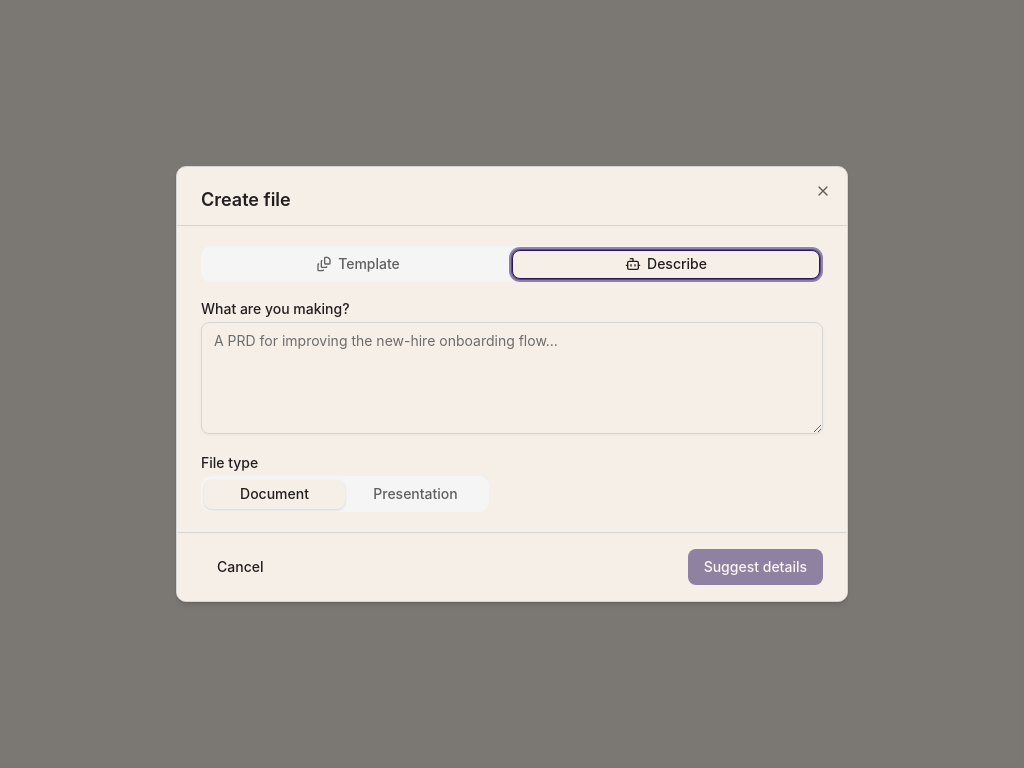
it: SmartCreateDialog › shows a retryable template rate limit instead of an empty catalog
Press the mouse on the tab "Template" at (358, 264), box [204,250,512,278]
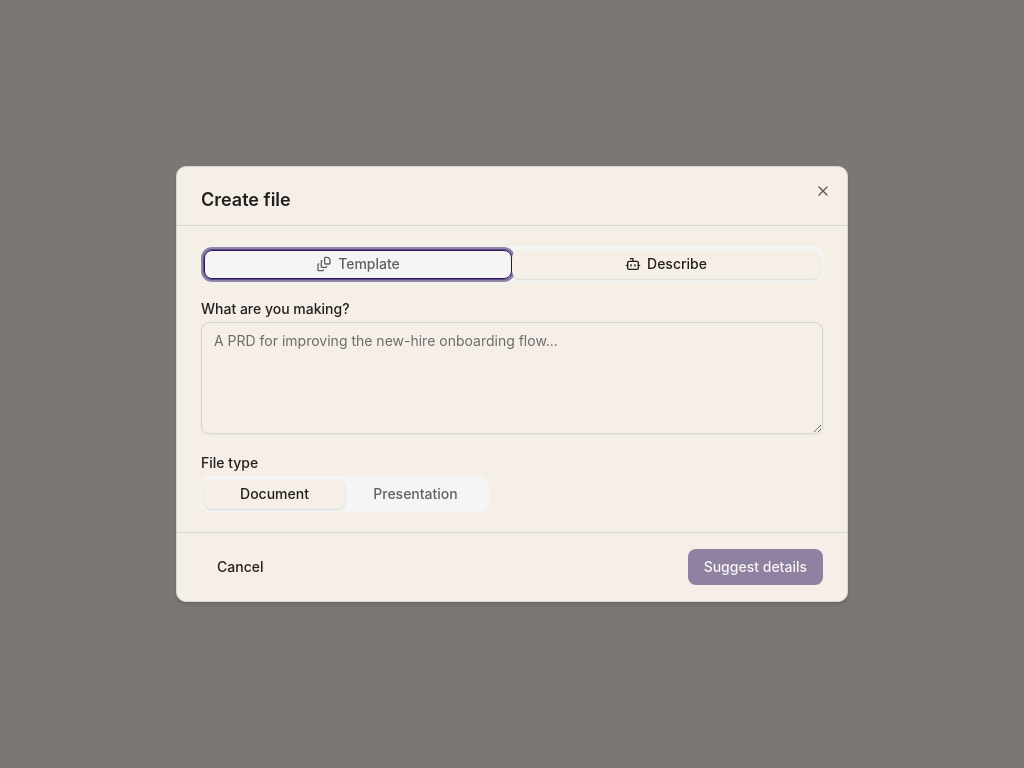
Click the tab "Template". click: (358, 264)
box: [204,250,512,278]
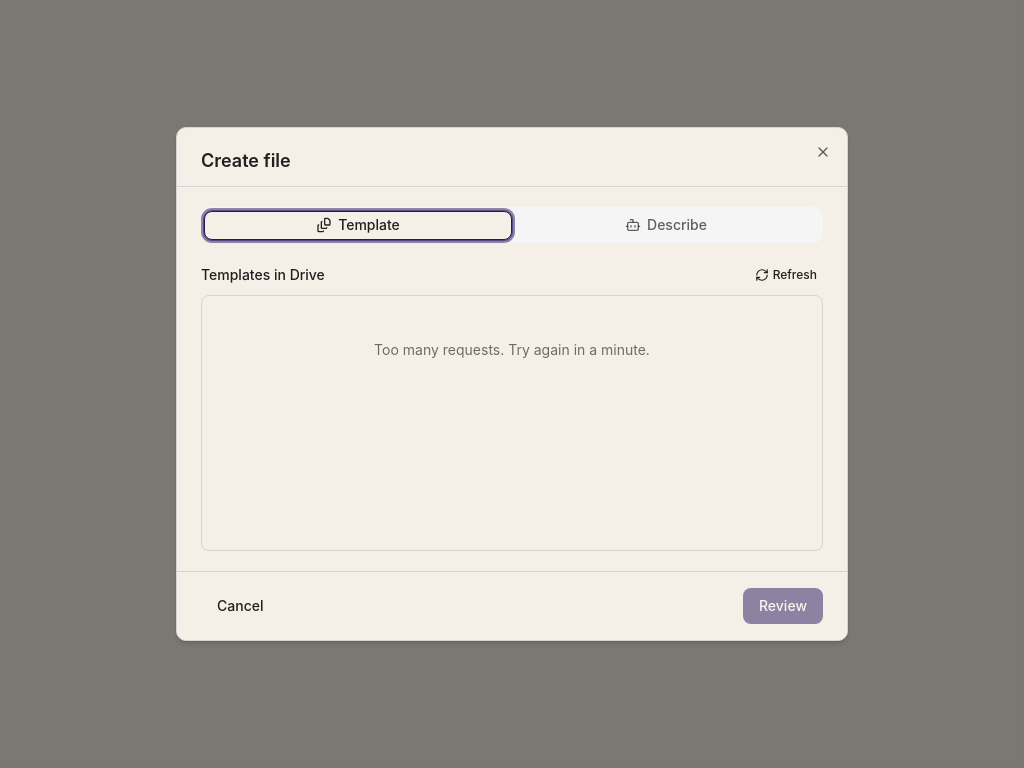
Check: the text "Too many requests. Try again in a minute." is shown, box [374,341,650,358]
Check: the button "Refresh" is enabled, box [749,263,823,287]
